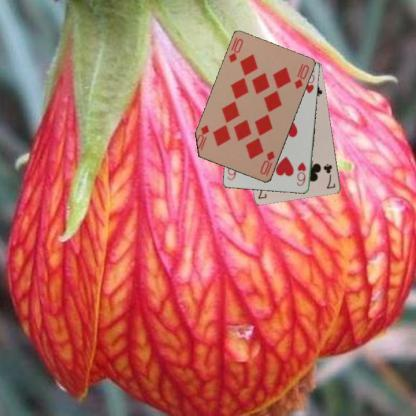10d: (258, 148, 276, 178), (226, 35, 244, 64)
6h: (294, 160, 308, 187)
7c: (321, 161, 337, 190)
